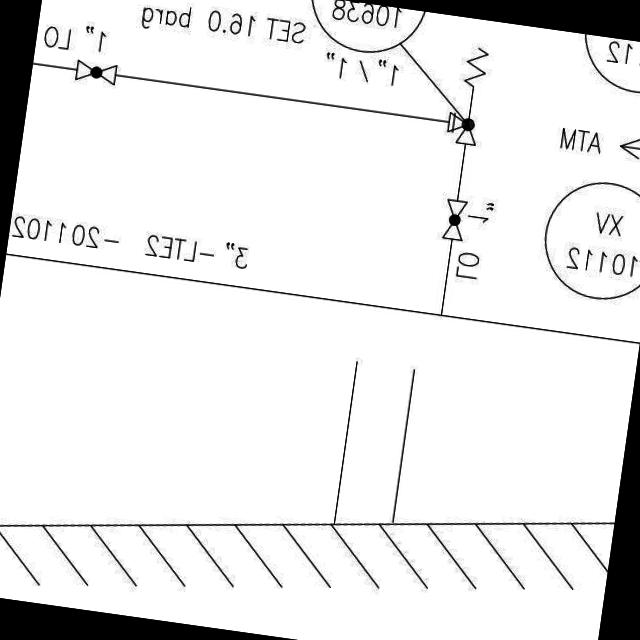BV2: (438, 190, 473, 248), (70, 58, 125, 88)
RPV: (436, 38, 498, 160)
